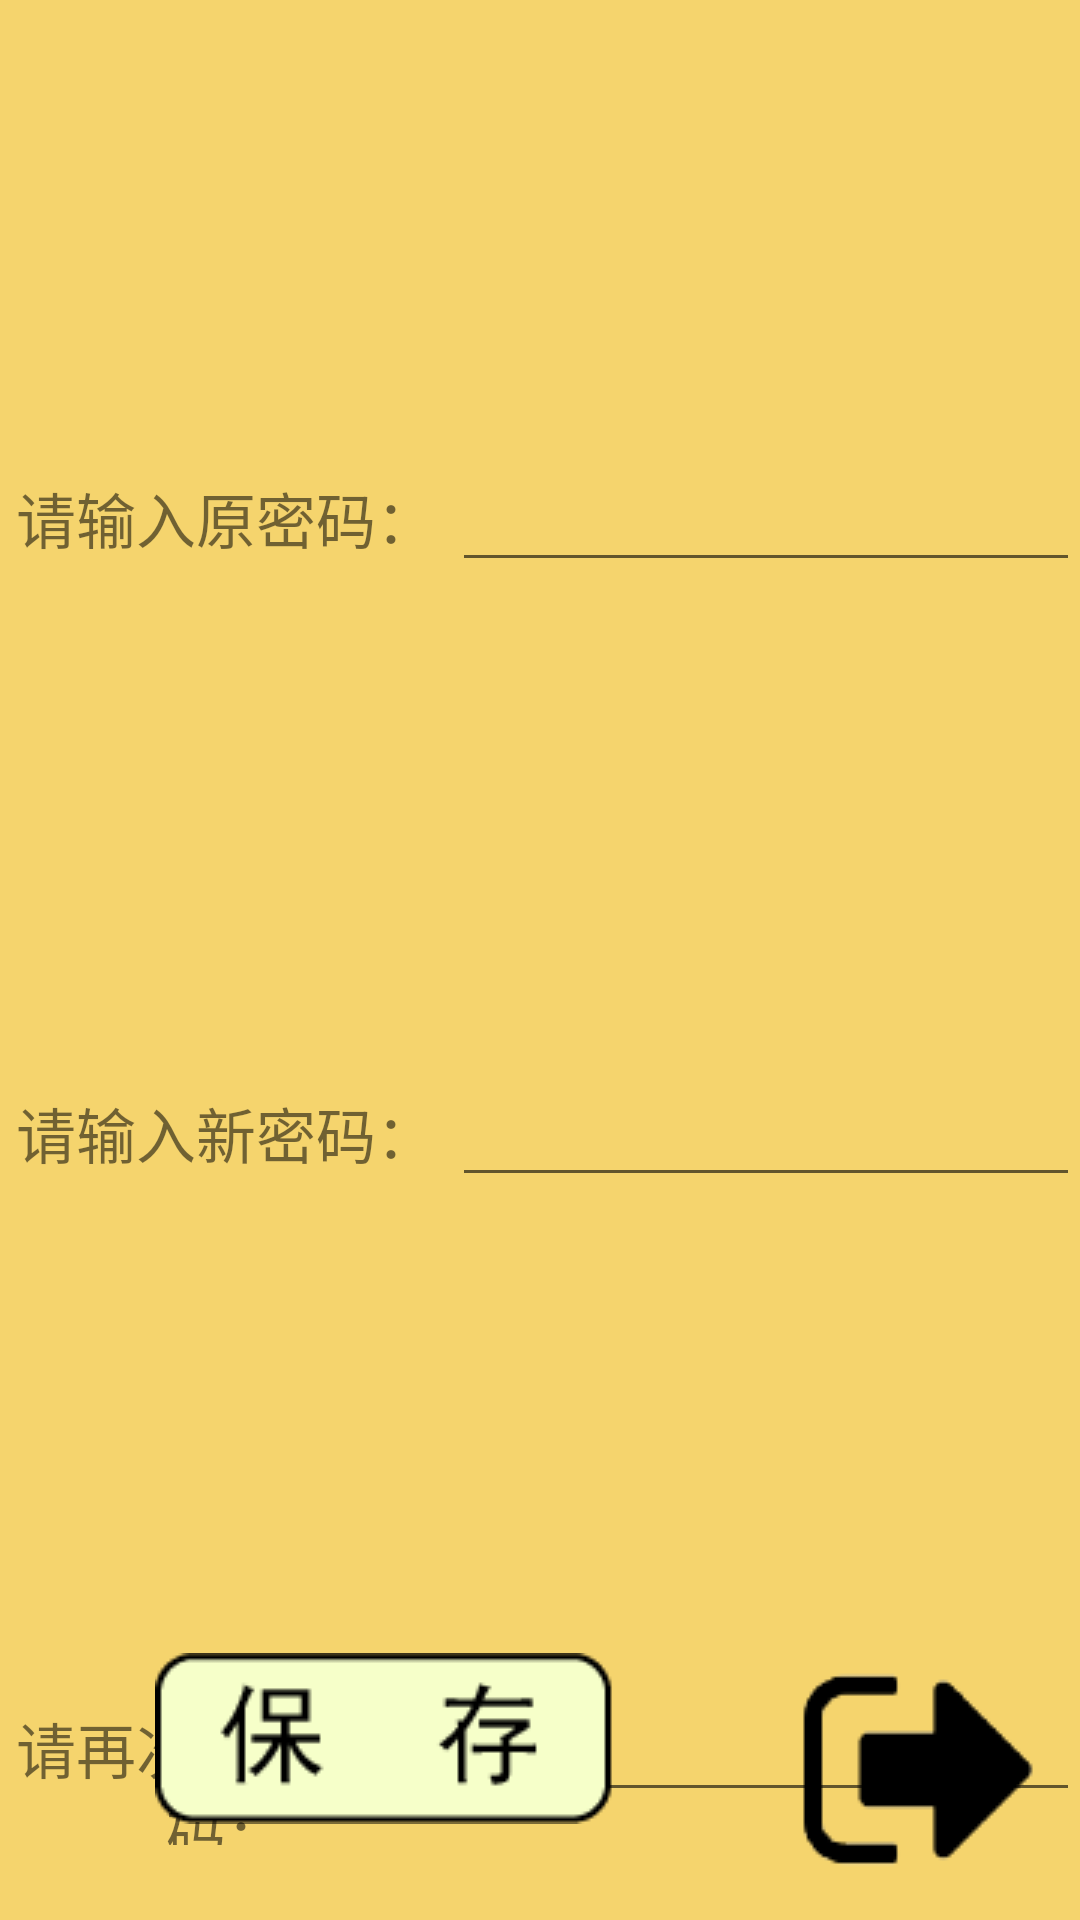

Icon click points for this 1080px x 1920px phone screenshot, format (x,y):
quit: (918,1769)
